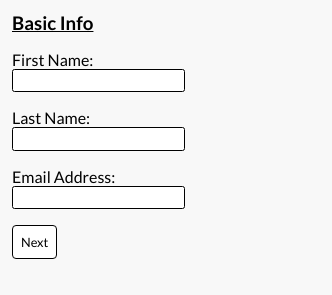
Test: step one validation › show email field validation for incorrect format
Type "notAnEmailAddress" into the field labelled "Email Address:". click: (99, 198)
box: [12,186,185,209]
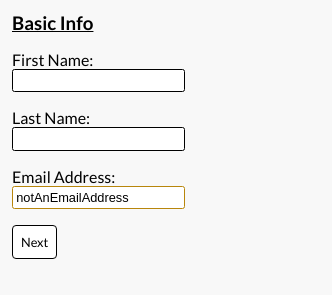
Leave the field labelled "Email Address:", box [12,186,185,209]
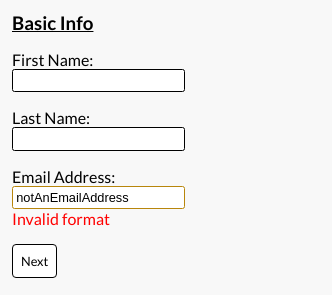
Expected: the text "Invalid format" is shown, [12,209,110,228]
